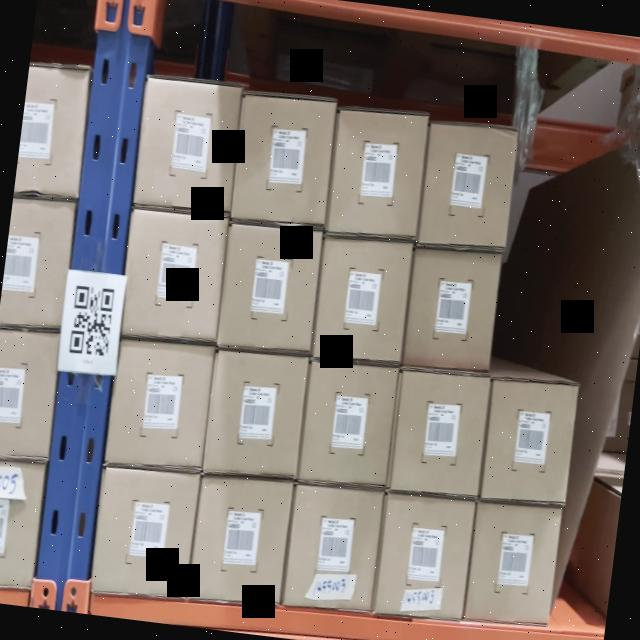box: (213, 217, 325, 357), (132, 77, 243, 213), (120, 208, 228, 344), (92, 465, 200, 601), (229, 94, 339, 227), (202, 348, 310, 481), (107, 340, 216, 470), (386, 366, 490, 502), (325, 108, 430, 239), (414, 118, 518, 250), (188, 476, 294, 604), (296, 358, 400, 488), (310, 238, 414, 364), (371, 496, 476, 620), (462, 499, 562, 628), (282, 484, 384, 610), (400, 246, 503, 370), (478, 378, 578, 504)
